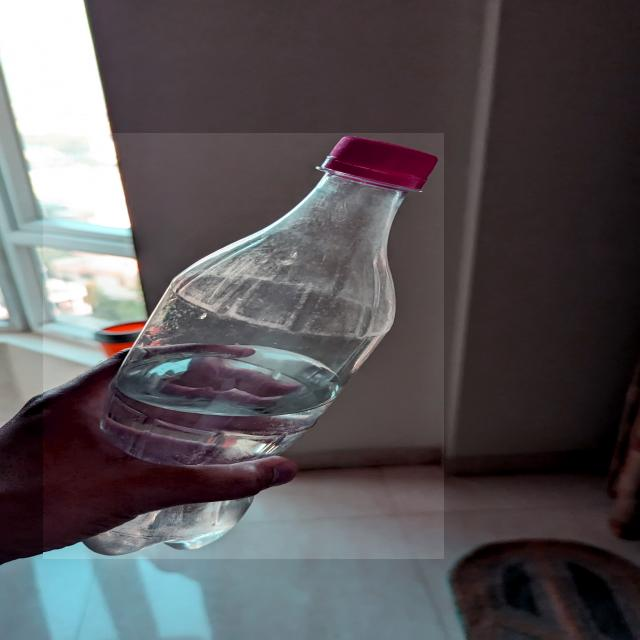half-bottle: (43, 133, 444, 560)
